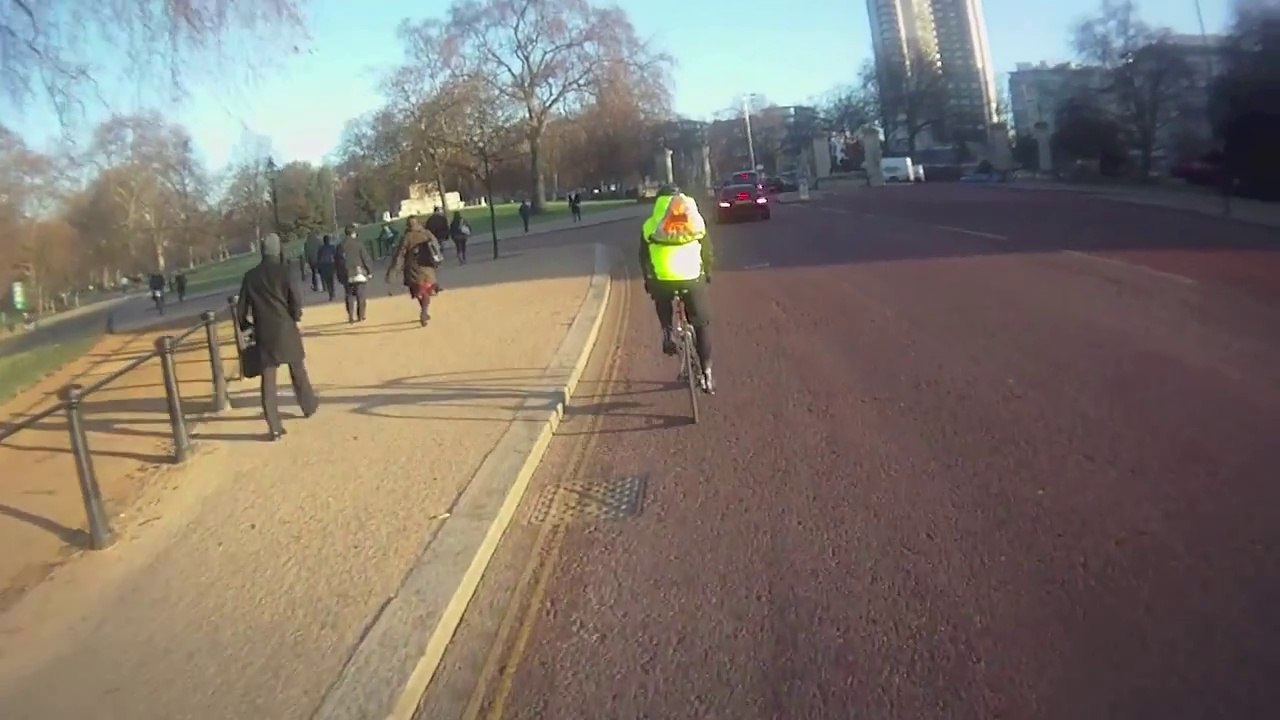cyclist_back: (640, 173, 732, 432)
